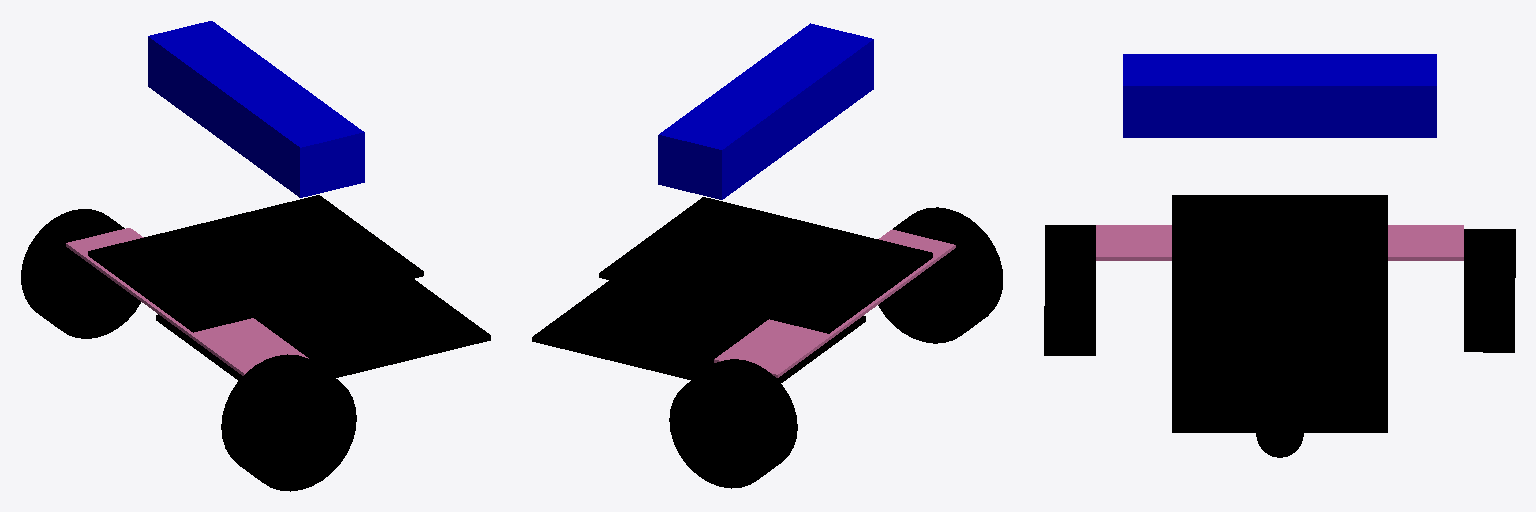
URDF robot description (saturn_robot):
<?xml version="1.0"?>
   <robot name="saturn_robot">

    <link name="base_link">
      <visual>
        <geometry>
          <box size="0.144 0.113 0.003"/>
        </geometry>
        <origin rpy="0 0 0" xyz="0.0 0.00 0.025"/>
        <material name="black">
          <color rgba="0 0 0 1"/>
        </material>
      </visual>
    </link>

    <link name="top_board">
      <visual>
        <geometry>
          <box size="0.144 0.113 0.003"/>
        </geometry>
        <origin rpy="0 0 0" xyz="-0.042 0 0.073"/>
        <material name="black">
          <color rgba="0 0 0 1"/>
        </material>
      </visual>
    </link>

    <link name="camera_link">
      <visual>
        <geometry>
          <box size="0.04 0.165 0.03"/>
        </geometry>
        <origin rpy="0 0 0" xyz="-0.042 0 0.165"/>
        <material name="blue">
          <color rgba="0 0 0.8 1"/>
        </material>
      </visual>
    </link>

    <link name="wheel_left">
      <visual>
        <geometry>
          <cylinder length="0.027" radius="0.0325"/>
        </geometry>
        <origin rpy="1.57 0 0" xyz="-0.085 0.11 0.0325"/>
        <material name="black">
          <color rgba="0 0 0 1"/>
        </material>
      </visual>
    </link>

    <link name="wheel_right">
      <visual>
        <geometry>
          <cylinder length="0.027" radius="0.0345"/>
        </geometry>
        <origin rpy="1.57 0 0" xyz="-0.085 -0.11 0.0325"/>
        <material name="black">
          <color rgba="0 0 0 1"/>
        </material>
      </visual>
    </link>

    <link name="caster_wheel">
      <visual>
        <geometry>
          <sphere radius="0.0125"/>
        </geometry>
        <origin rpy="0 0 0" xyz="0.05 0.00 0.0125"/>
        <material name="black">
          <color rgba="0 0 0 1"/>
        </material>
      </visual>
    </link>

    <link name="wheel_track">
      <visual>
        <geometry>
          <box size="0.04 0.193 0.002"/>
        </geometry>
        <origin rpy="0 0 0" xyz="-0.085 0.0 0.06"/>
        <material name="white"/>
      </visual>
    </link>

    <joint name="base_to_wheel_left" type="fixed">
      <parent link="base_link"/>
      <child link="wheel_left"/>
      <origin xyz="0 0 0"/>
    </joint>

    <joint name="base_to_wheel_right" type="fixed">
      <parent link="base_link"/>
      <child link="wheel_right"/>
      <origin xyz="0 0 0"/>
    </joint>

    <joint name="base_to_wheel_track" type="fixed">
      <parent link="base_link"/>
      <child link="wheel_track"/>
      <origin xyz="0 0 0"/>
    </joint>

    <joint name="base_to_caster_wheel" type="fixed">
      <parent link="base_link"/>
      <child link="caster_wheel"/>
      <origin xyz="0 0 0"/>
    </joint>

    <joint name="base_to_camera_link" type="fixed">
      <parent link="base_link"/>
      <child link="camera_link"/>
      <origin xyz="0 0 0"/>
    </joint>

    <joint name="base_to_top_board" type="fixed">
      <parent link="base_link"/>
      <child link="top_board"/>
      <origin xyz="0 0 0"/>
    </joint>
  </robot>

--- Render facts (derived) ---
Views: 3 orthographic renders of the robot side by side, from view 1: azimuth 30°, elevation 25°; view 2: azimuth 150°, elevation 25°; view 3: azimuth 270°, elevation 25°.
Robot: saturn_robot — 7 links, 6 joints (6 fixed); root link base_link; default pose: all joints at 0.
Visible links, largest first — view 1: top_board, camera_link, wheel_right, base_link, wheel_left, wheel_track; view 2: top_board, camera_link, base_link, wheel_left, wheel_right, wheel_track; view 3: camera_link, top_board, base_link, wheel_right, wheel_left, wheel_track, caster_wheel.
Link boxes in pixels (bbox=[...]): top_board: bbox=[88, 195, 423, 332]; camera_link: bbox=[148, 21, 364, 197]; wheel_right: bbox=[221, 354, 356, 491]; base_link: bbox=[156, 279, 490, 380]; wheel_left: bbox=[21, 209, 140, 338]; wheel_track: bbox=[66, 228, 308, 375]; top_board: bbox=[599, 197, 932, 333]; camera_link: bbox=[658, 23, 873, 199]; base_link: bbox=[532, 280, 865, 382]; wheel_left: bbox=[669, 359, 797, 488]; wheel_right: bbox=[878, 207, 1002, 343]; wheel_track: bbox=[714, 229, 955, 377]; camera_link: bbox=[1123, 54, 1436, 137]; top_board: bbox=[1172, 195, 1387, 315]; base_link: bbox=[1172, 316, 1387, 432]; wheel_right: bbox=[1044, 225, 1095, 355]; wheel_left: bbox=[1464, 229, 1515, 352]; wheel_track: bbox=[1096, 225, 1463, 260]; caster_wheel: bbox=[1256, 433, 1303, 457].
Bounding box of the posed robot: 0.1915 × 0.2471 × 0.182 m (x, y, z).
Geometry: primitives only (box / cylinder / sphere), no mesh files.